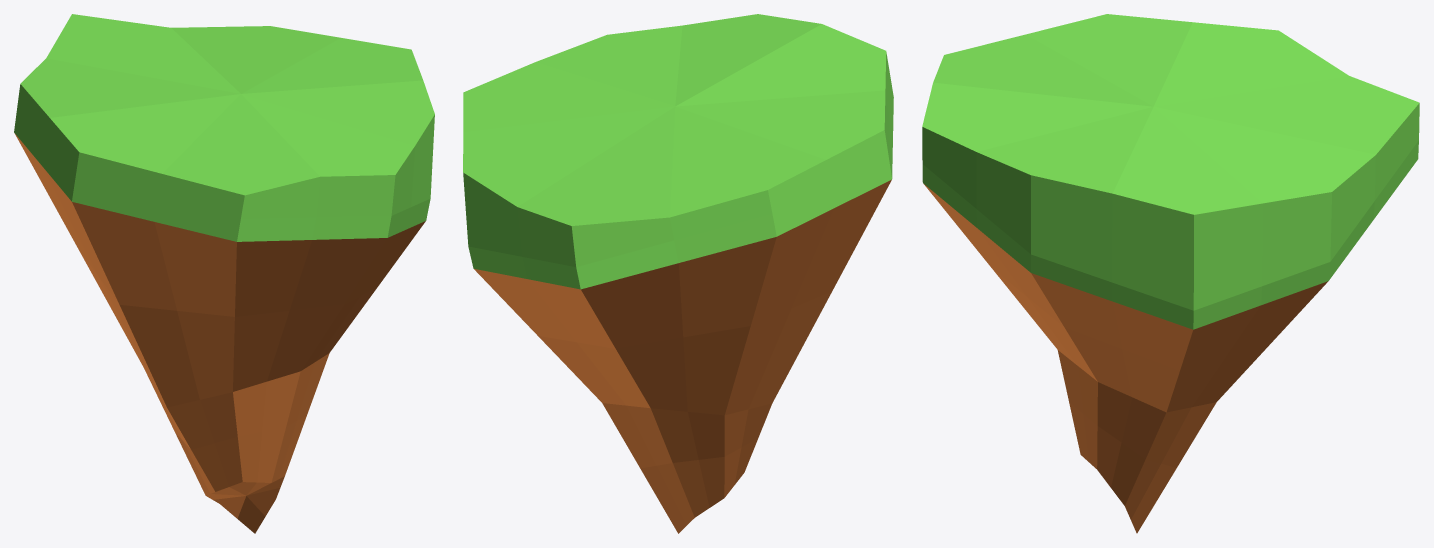
File: floating_island.fbx
The picture shows the model from 3 angles, left to right: view 1: azimuth 30°, elevation 25°; view 2: azimuth 150°, elevation 25°; view 3: azimuth 270°, elevation 25°; orthographic projection. The views are drawn at different scales.
Parts seen in each view (by area): view 1: Cylinder.001, Cylinder; view 2: Cylinder.001, Cylinder; view 3: Cylinder.001, Cylinder.
Boxes of the visible parts, bbox=[...] form: Cylinder.001: bbox=[14, 14, 434, 241]; Cylinder: bbox=[14, 133, 425, 533]; Cylinder.001: bbox=[463, 14, 893, 289]; Cylinder: bbox=[474, 179, 891, 533]; Cylinder.001: bbox=[922, 14, 1419, 329]; Cylinder: bbox=[924, 184, 1328, 533].
Size of the model in its own units: 184 by 203 by 212.
